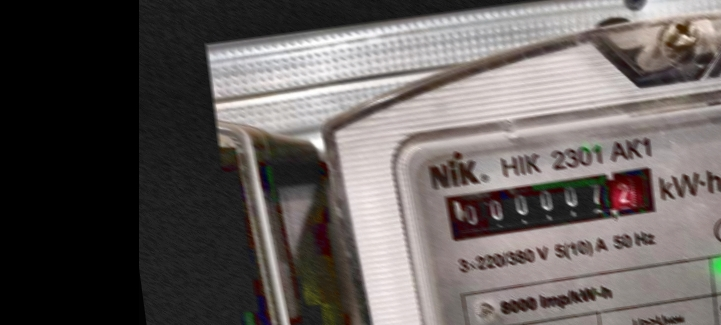0: (463, 200, 480, 225), (539, 187, 556, 211), (514, 191, 530, 216), (563, 183, 579, 207), (488, 197, 504, 220)
2: (616, 180, 632, 204)
7: (589, 179, 604, 205)
screen: (434, 154, 668, 250)
